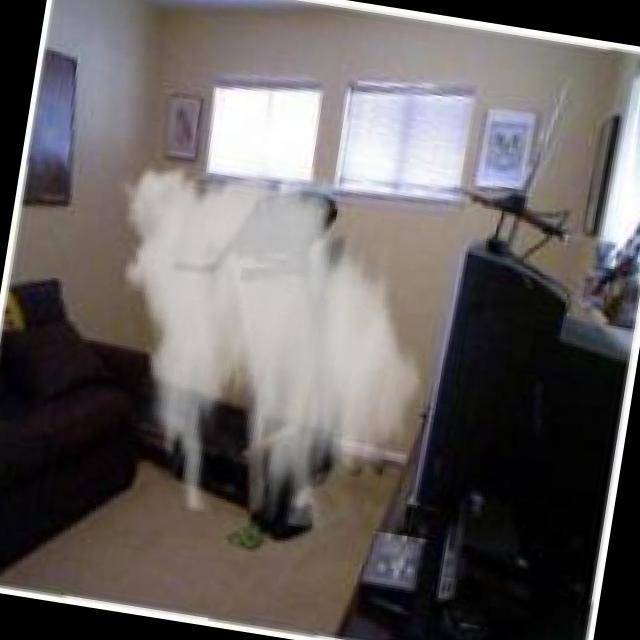Smoke: (64, 129, 462, 545)
